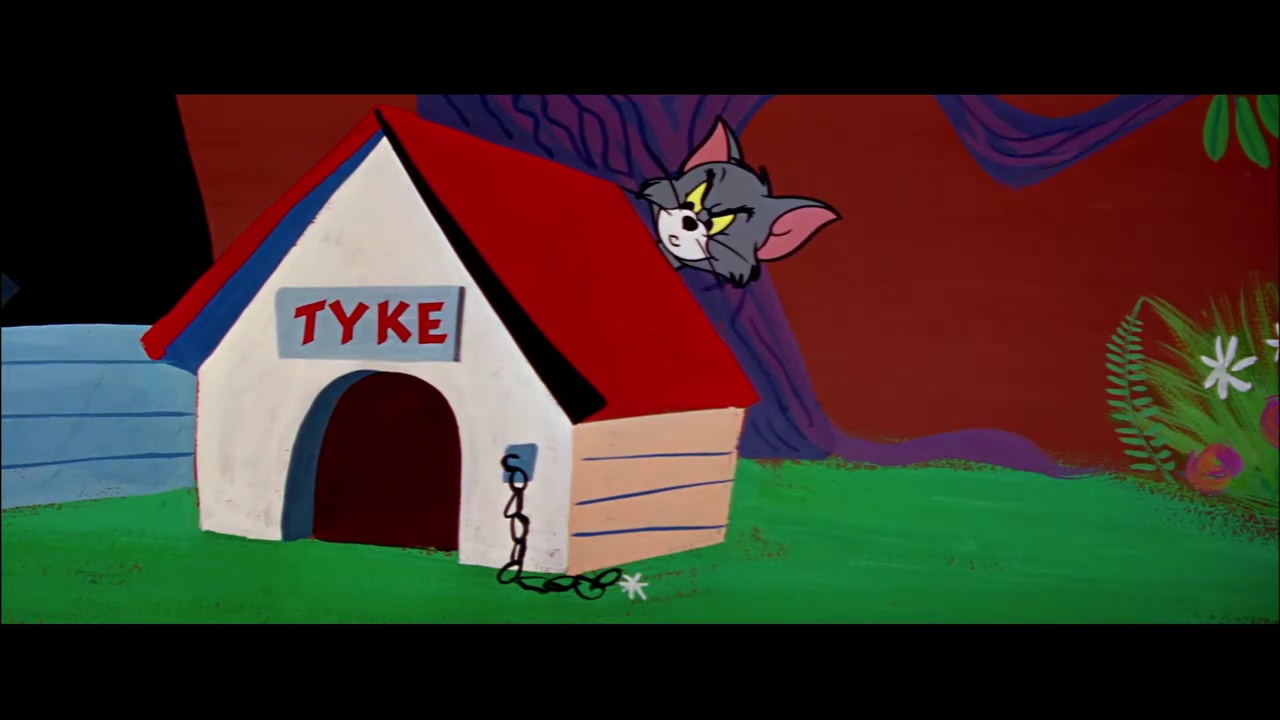tom: (639, 118, 841, 287)
